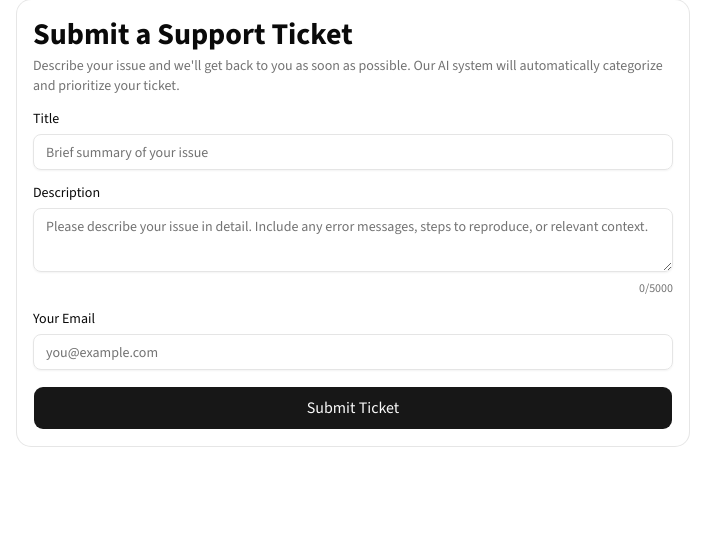
Test: TicketSubmitForm › shows validation errors on empty submission
Click the button "Submit Ticket".
click(353, 408)  # box [33,386,673,430]
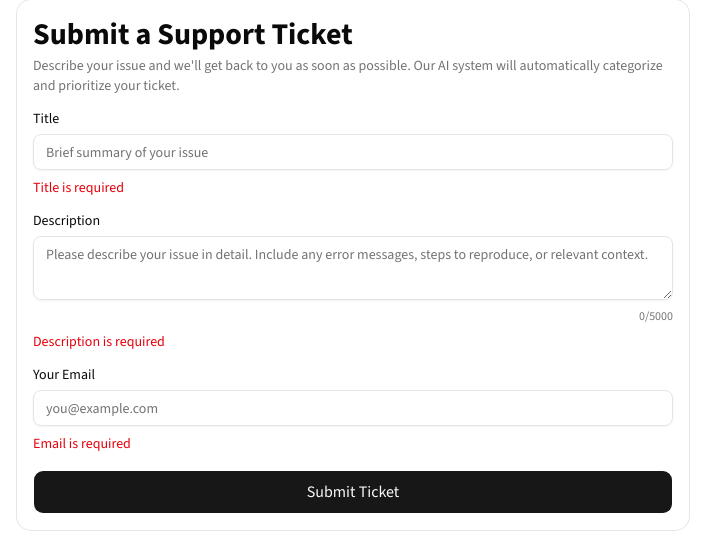
Check: the text "Title is required" is shown, box [33,178,124,197]
Check: the text "Description is required" is shown, box [33,332,165,351]
Check: the text "Email is required" is shown, box [33,434,131,453]
